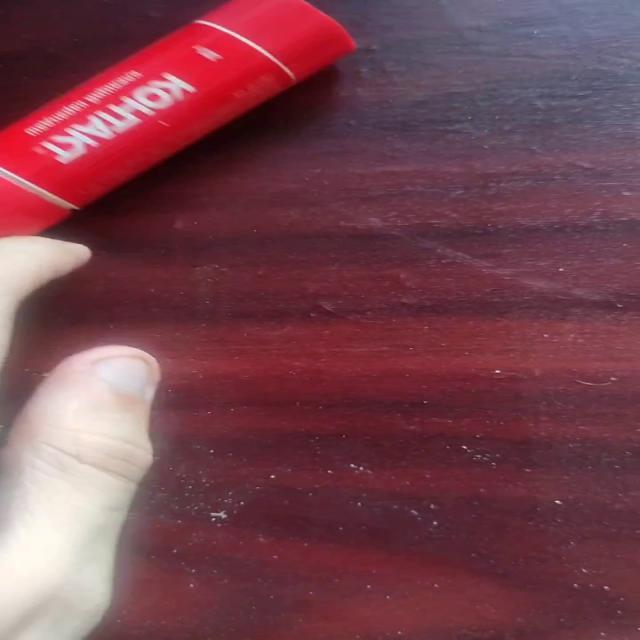glue: (1, 0, 356, 239)
